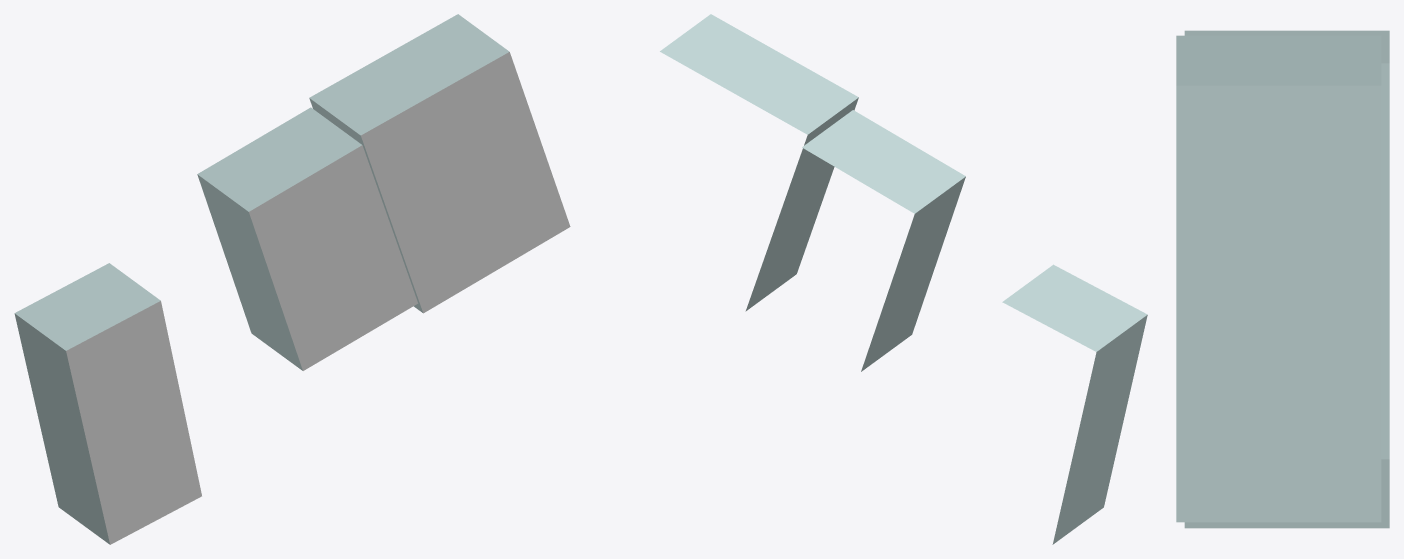
3 renders of one model, left to right at view 1: azimuth 30°, elevation 25°; view 2: azimuth 150°, elevation 25°; view 3: azimuth 270°, elevation 25°, orthographic. The views are drawn at different scales.
Parts seen in each view (by area): view 1: 0_1_1_2_3_1_2_2_0; view 2: 0_1_1_2_3_1_2_2_0; view 3: 0_1_1_2_3_1_2_2_0.
Boxes of the visible parts, x1,y1,x2,y2 form: 0_1_1_2_3_1_2_2_0: [14, 14, 570, 544]; 0_1_1_2_3_1_2_2_0: [660, 14, 1147, 544]; 0_1_1_2_3_1_2_2_0: [1176, 30, 1389, 528].
Size of the model in its own units: 16.86 by 12.76 by 3.12.
